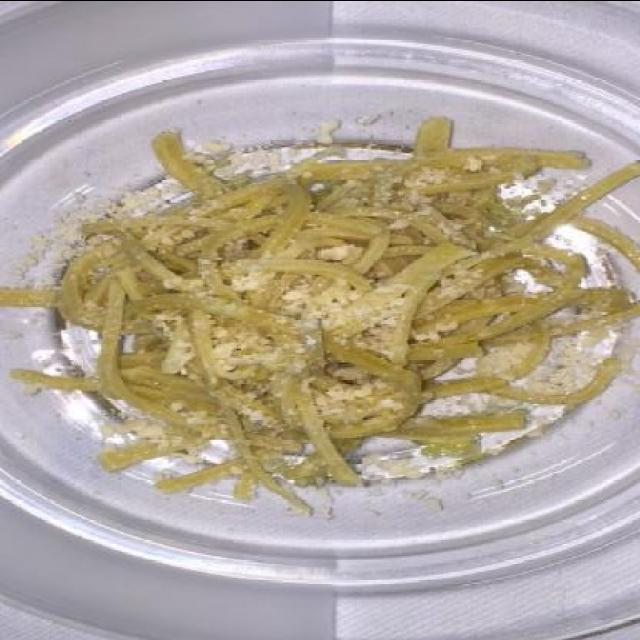Oil pasta: (29, 69, 608, 497)
